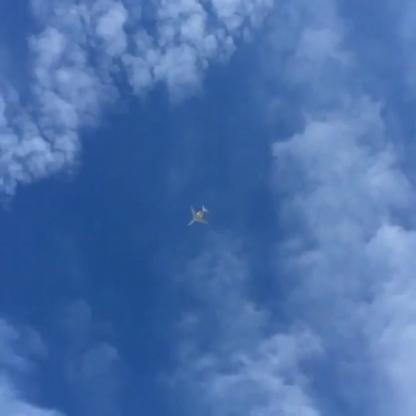aircraft: (186, 204, 209, 226)
